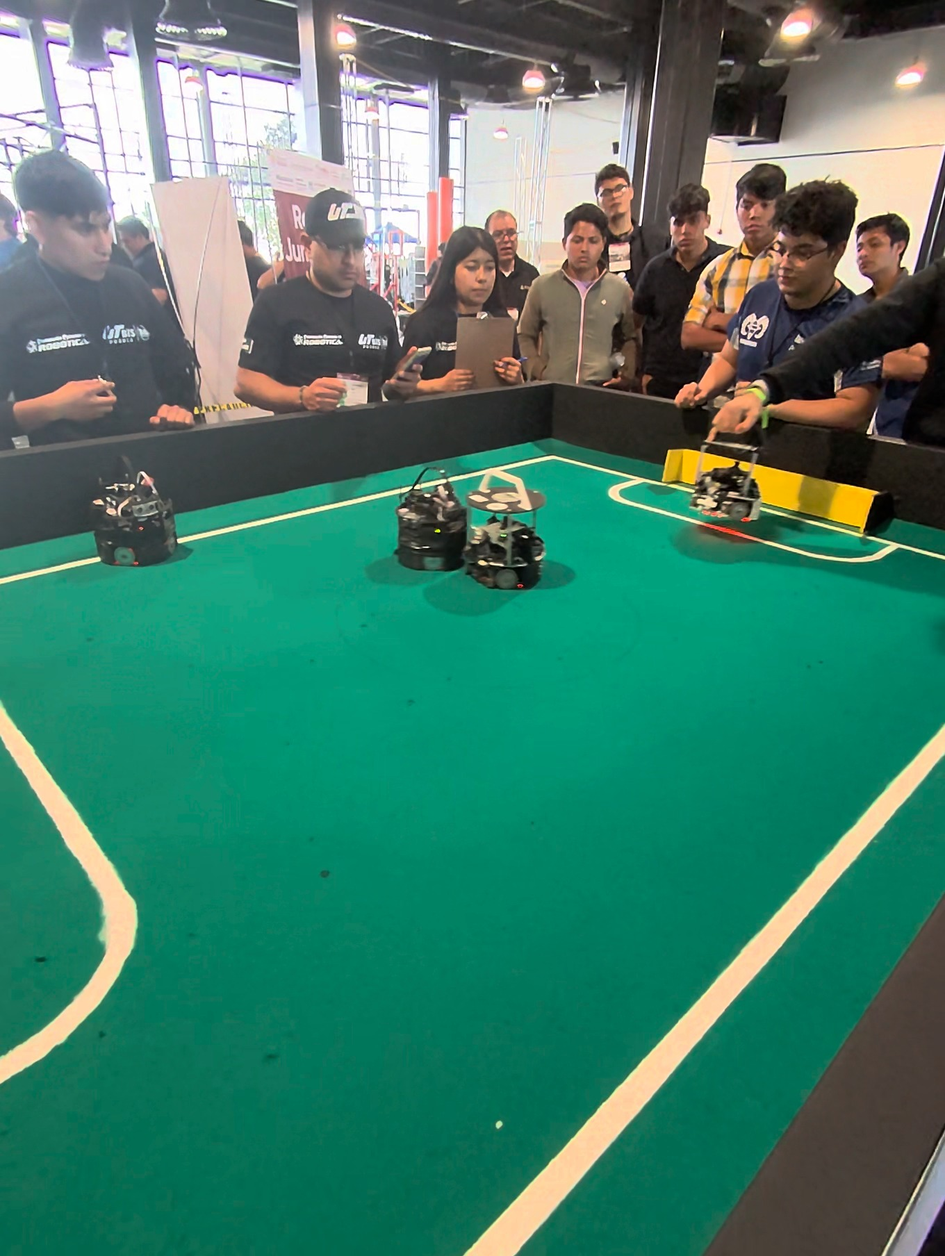Robot: (464, 469, 551, 604), (90, 453, 183, 571), (693, 397, 764, 520), (394, 467, 471, 578)
